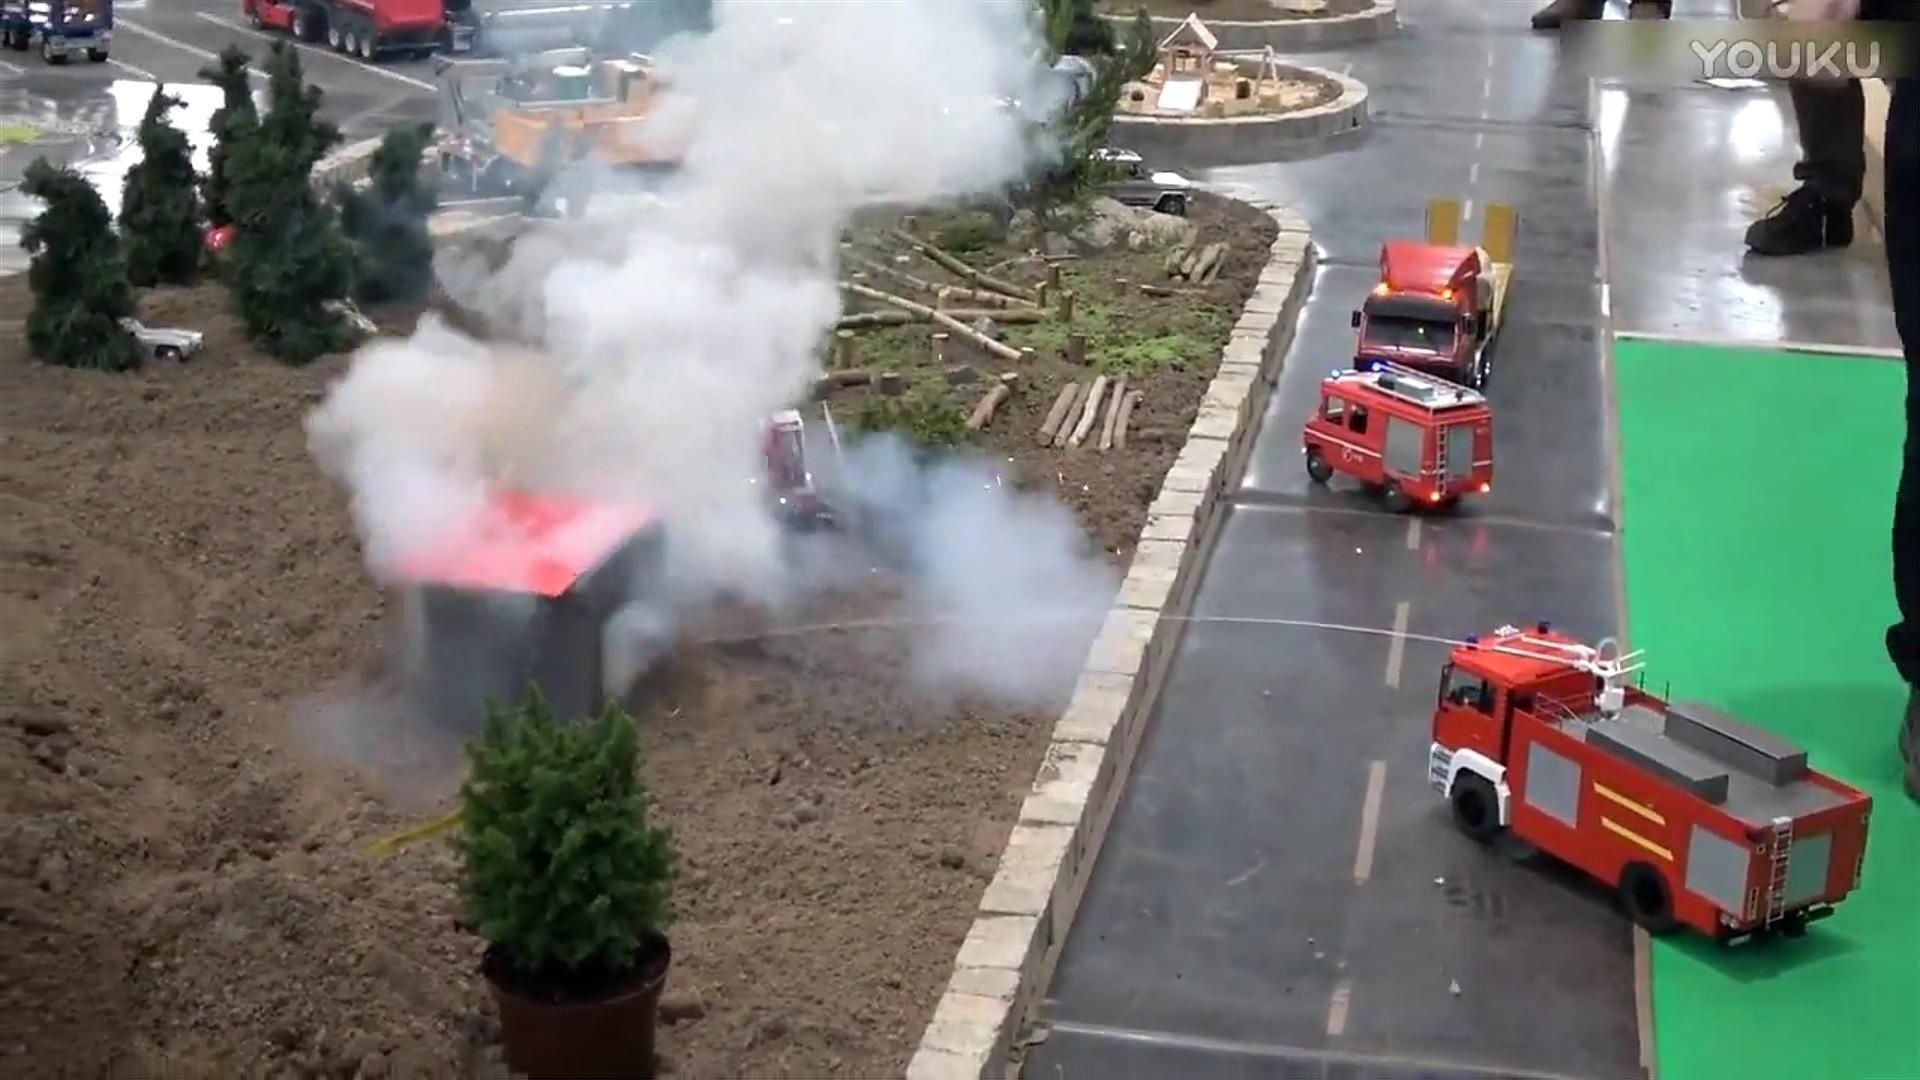fire: (460, 491, 633, 597)
